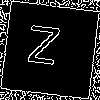Z: (25, 24, 61, 75)
